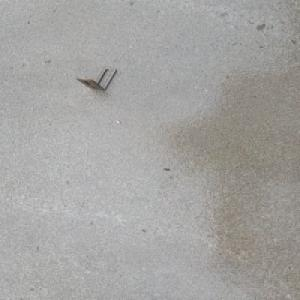MetalPart: (75, 66, 117, 90)
